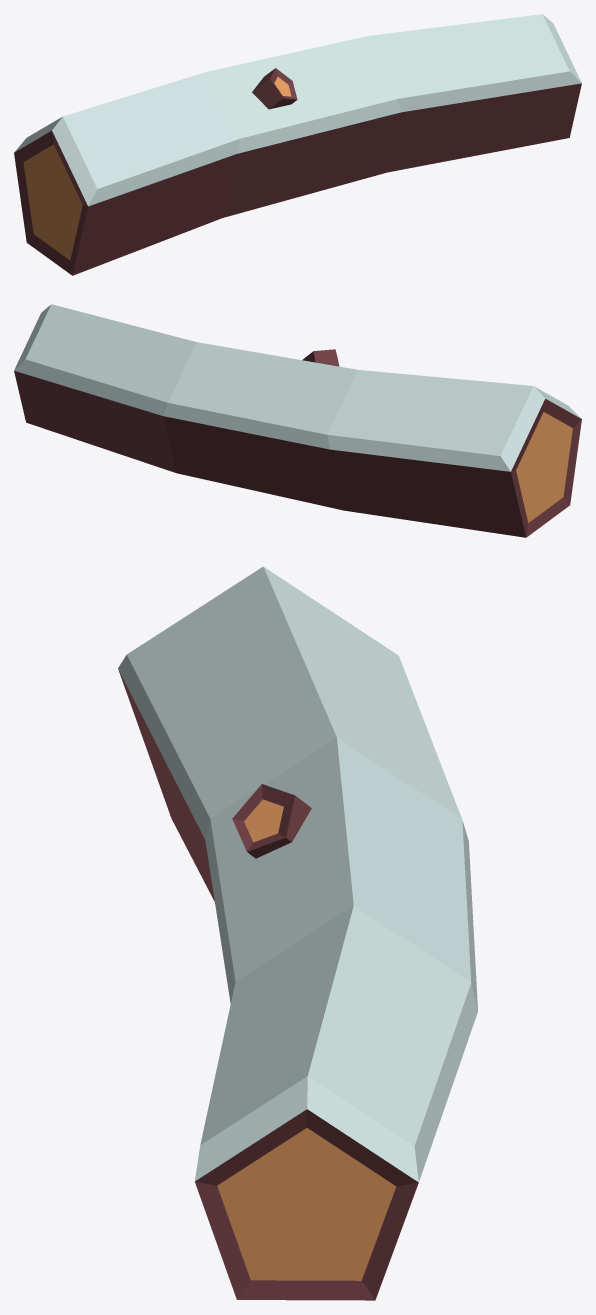
File: log_1_snow.fbx
3 renders of one model, top to bottom at view 1: azimuth 30°, elevation 25°; view 2: azimuth 150°, elevation 25°; view 3: azimuth 270°, elevation 25°, orthographic. The views are drawn at different scales.
Visible parts, largest first — view 1: Cylinder, Cylinder.001; view 2: Cylinder, Cylinder.001; view 3: Cylinder, Cylinder.001.
Boxes of the visible parts, x1,y1,x2,y2 form: Cylinder: (14, 14, 581, 275); Cylinder.001: (252, 68, 297, 109); Cylinder: (14, 304, 581, 537); Cylinder.001: (302, 349, 339, 366); Cylinder: (118, 566, 477, 1300); Cylinder.001: (232, 784, 311, 858).
Bounding box in the file's own units: 233 × 60.03 × 73.33.
